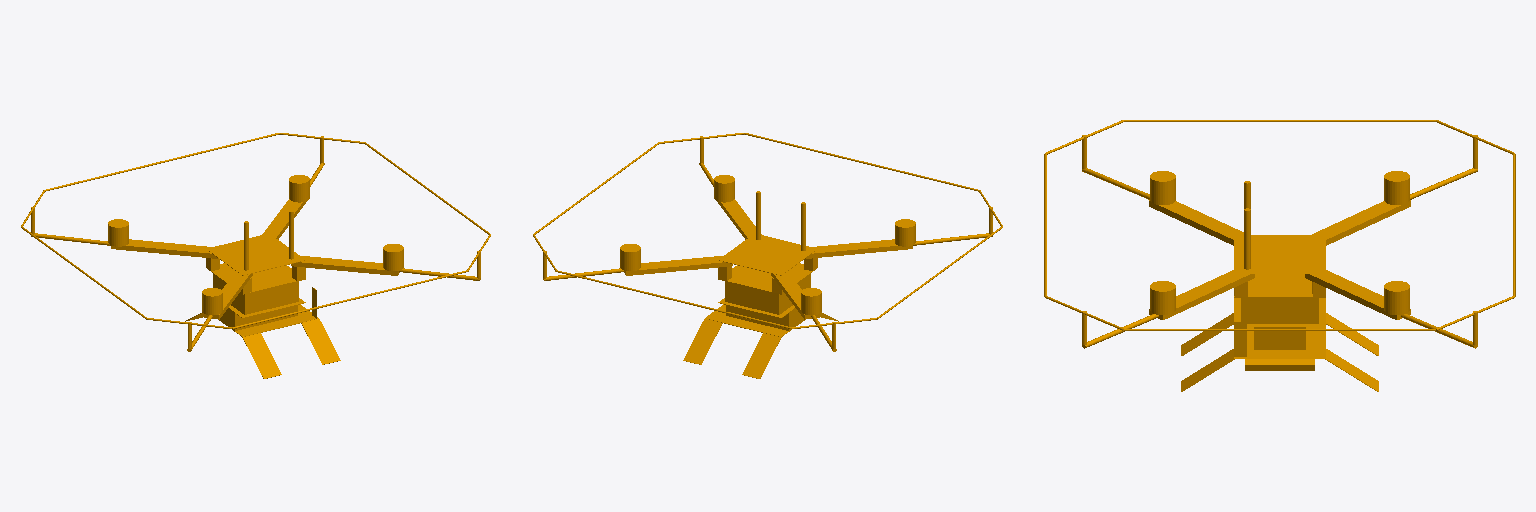
robot.urdf — Pam:
<?xml version="1.0" ?>
<robot name="Pam">
  <joint name="Pam__rotor_0_joint" type="revolute">
    <parent link="Pam__base_link"/>
    <child link="Pam__rotor_0"/>
    <origin rpy="0 0 0" xyz="0.2  -0.18  0.05"/>
    <axis xyz="0 0 1"/>
    <limit effort="0.0" lower="-1e+16" upper="1e+16" velocity="0.0"/>
  </joint>
  <joint name="Pam__rotor_1_joint" type="revolute">
    <parent link="Pam__base_link"/>
    <child link="Pam__rotor_1"/>
    <origin rpy="0 0 0" xyz="-0.2   0.18  0.05"/>
    <axis xyz="0 0 1"/>
    <limit effort="0.0" lower="-1e+16" upper="1e+16" velocity="0.0"/>
  </joint>
  <joint name="Pam__rotor_2_joint" type="revolute">
    <parent link="Pam__base_link"/>
    <child link="Pam__rotor_2"/>
    <origin rpy="0 0 0" xyz="0.2  0.18 0.05"/>
    <axis xyz="0 0 1"/>
    <limit effort="0.0" lower="-1e+16" upper="1e+16" velocity="0.0"/>
  </joint>
  <joint name="Pam__rotor_3_joint" type="revolute">
    <parent link="Pam__base_link"/>
    <child link="Pam__rotor_3"/>
    <origin rpy="0 0 0" xyz="-0.2  -0.18  0.05"/>
    <axis xyz="0 0 1"/>
    <limit effort="0.0" lower="-1e+16" upper="1e+16" velocity="0.0"/>
  </joint>
  <link name="Pam__base_link">
    <inertial>
      <mass value="3.461"/>
      <origin rpy="0 0 0" xyz="0 0 0"/>
      <inertia ixx="0.0324" ixy="0" ixz="0" iyy="0.0324" iyz="0" izz="0.0519"/>
    </inertial>
    <collision name="Pam__base_link_inertia_collision">
      <origin rpy="0 0 0" xyz="0    0   -0.05"/>
      <geometry>
        <box size="0.76 0.72 0.3"/>
      </geometry>
    </collision>
    <visual name="Pam__plate1_visual">
      <origin rpy="0 0 0" xyz="0 0 0"/>
      <geometry>
        <box size="0.14 0.14 0.001"/>
      </geometry>
    </visual>
    <visual name="Pam__plate2_visual">
      <origin rpy="0 0 0" xyz="0    0   -0.04"/>
      <geometry>
        <box size="0.14 0.14 0.001"/>
      </geometry>
    </visual>
    <visual name="Pam__plate3_visual">
      <origin rpy="0 0 0" xyz="0    0   -0.09"/>
      <geometry>
        <box size="0.14 0.14 0.001"/>
      </geometry>
    </visual>
    <visual name="Pam__plate4_visual">
      <origin rpy="0 0 0" xyz="0.015  0    -0.13"/>
      <geometry>
        <box size="0.17 0.14 0.001"/>
      </geometry>
    </visual>
    <visual name="Pam__brix_visual">
      <origin rpy="0 0 0" xyz="0     0    -0.065"/>
      <geometry>
        <box size="0.12 0.12 0.05"/>
      </geometry>
    </visual>
    <visual name="Pam__battery_visual">
      <origin rpy="0 0 0" xyz="0    0   -0.11"/>
      <geometry>
        <box size="0.14 0.08 0.04"/>
      </geometry>
    </visual>
    <visual name="Pam__leg1_visual">
      <origin rpy="-0.6  0   0" xyz="0.08   0.11  -0.158"/>
      <geometry>
        <box size="0.04 0.1 0.001"/>
      </geometry>
    </visual>
    <visual name="Pam__leg2_visual">
      <origin rpy="0.6 0  0" xyz="0.08  -0.11  -0.158"/>
      <geometry>
        <box size="0.04 0.1 0.001"/>
      </geometry>
    </visual>
    <visual name="Pam__leg3_visual">
      <origin rpy="-0.6  0   0" xyz="-0.05   0.11  -0.158"/>
      <geometry>
        <box size="0.04 0.1 0.001"/>
      </geometry>
    </visual>
    <visual name="Pam__leg4_visual">
      <origin rpy="0.6 0  0" xyz="-0.05  -0.11  -0.158"/>
      <geometry>
        <box size="0.04 0.1 0.001"/>
      </geometry>
    </visual>
    <visual name="Pam__antenna1_visual">
      <origin rpy="0 0 0" xyz="0.05 -0.05  0.05"/>
      <geometry>
        <cylinder length="0.1" radius="0.005"/>
      </geometry>
    </visual>
    <visual name="Pam__antenna2_visual">
      <origin rpy="0 0 0" xyz="-0.05 -0.05  0.05"/>
      <geometry>
        <cylinder length="0.1" radius="0.005"/>
      </geometry>
    </visual>
    <visual name="Pam__prop_guard1_visual">
      <origin rpy="1.57079 0      0" xyz="0.38 0   0.05"/>
      <geometry>
        <cylinder length="0.48" radius="0.002"/>
      </geometry>
    </visual>
    <visual name="Pam__prop_guard2_visual">
      <origin rpy="3.14159 1.57079 3.14159" xyz="0   0.36 0.05"/>
      <geometry>
        <cylinder length="0.52" radius="0.002"/>
      </geometry>
    </visual>
    <visual name="Pam__prop_guard3_visual">
      <origin rpy="1.57079 0      0" xyz="-0.38  0    0.05"/>
      <geometry>
        <cylinder length="0.48" radius="0.002"/>
      </geometry>
    </visual>
    <visual name="Pam__prop_guard4_visual">
      <origin rpy="3.14159 1.57079 3.14159" xyz="0   -0.36  0.05"/>
      <geometry>
        <cylinder length="0.52" radius="0.002"/>
      </geometry>
    </visual>
    <visual name="Pam__prop_guard5_visual">
      <origin rpy="1.57079 0      0.7854" xyz="0.32 0.3  0.05"/>
      <geometry>
        <cylinder length="0.17" radius="0.002"/>
      </geometry>
    </visual>
    <visual name="Pam__prop_guard6_visual">
      <origin rpy="1.57079 0      0.7854" xyz="-0.32 -0.3   0.05"/>
      <geometry>
        <cylinder length="0.17" radius="0.002"/>
      </geometry>
    </visual>
    <visual name="Pam__prop_guard7_visual">
      <origin rpy="1.57079  0      -0.7854" xyz="-0.32  0.3   0.05"/>
      <geometry>
        <cylinder length="0.17" radius="0.002"/>
      </geometry>
    </visual>
    <visual name="Pam__prop_guard8_visual">
      <origin rpy="1.57079  0      -0.7854" xyz="0.32 -0.3   0.05"/>
      <geometry>
        <cylinder length="0.17" radius="0.002"/>
      </geometry>
    </visual>
    <visual name="Pam__prop_guard9_visual">
      <origin rpy="0 0 0" xyz="0.32  0.3   0.025"/>
      <geometry>
        <cylinder length="0.055" radius="0.004"/>
      </geometry>
    </visual>
    <visual name="Pam__prop_guard10_visual">
      <origin rpy="0 0 0" xyz="-0.32   0.3    0.025"/>
      <geometry>
        <cylinder length="0.055" radius="0.004"/>
      </geometry>
    </visual>
    <visual name="Pam__prop_guard11_visual">
      <origin rpy="0 0 0" xyz="0.32  -0.3    0.025"/>
      <geometry>
        <cylinder length="0.055" radius="0.004"/>
      </geometry>
    </visual>
    <visual name="Pam__prop_guard12_visual">
      <origin rpy="0 0 0" xyz="-0.32  -0.3    0.025"/>
      <geometry>
        <cylinder length="0.055" radius="0.004"/>
      </geometry>
    </visual>
    <visual name="Pam__prop_guard13_visual">
      <origin rpy="1.57079  0      -0.7854" xyz="0.265  0.245 -0.005"/>
      <geometry>
        <cylinder length="0.16" radius="0.004"/>
      </geometry>
    </visual>
    <visual name="Pam__prop_guard14_visual">
      <origin rpy="1.57079  0      -0.7854" xyz="-0.265 -0.245 -0.005"/>
      <geometry>
        <cylinder length="0.16" radius="0.004"/>
      </geometry>
    </visual>
    <visual name="Pam__prop_guard15_visual">
      <origin rpy="1.57079 0      0.7854" xyz="-0.265  0.245 -0.005"/>
      <geometry>
        <cylinder length="0.16" radius="0.004"/>
      </geometry>
    </visual>
    <visual name="Pam__prop_guard16_visual">
      <origin rpy="1.57079 0      0.7854" xyz="0.265 -0.245 -0.005"/>
      <geometry>
        <cylinder length="0.16" radius="0.004"/>
      </geometry>
    </visual>
    <visual name="Pam__arm1_visual">
      <origin rpy="0   0   0.74" xyz="0.13   0.12  -0.005"/>
      <geometry>
        <box size="0.21 0.03 0.01"/>
      </geometry>
    </visual>
    <visual name="Pam__arm2_visual">
      <origin rpy="0    0   -0.74" xyz="0.13  -0.12  -0.005"/>
      <geometry>
        <box size="0.21 0.03 0.01"/>
      </geometry>
    </visual>
    <visual name="Pam__arm3_visual">
      <origin rpy="0    0   -0.74" xyz="-0.13   0.12  -0.005"/>
      <geometry>
        <box size="0.21 0.03 0.01"/>
      </geometry>
    </visual>
    <visual name="Pam__arm4_visual">
      <origin rpy="0   0   0.74" xyz="-0.13  -0.12  -0.005"/>
      <geometry>
        <box size="0.21 0.03 0.01"/>
      </geometry>
    </visual>
    <visual name="Pam__arm1a_visual">
      <origin rpy="0   0   0.02" xyz="0.06   0.06  -0.025"/>
      <geometry>
        <box size="0.02 0.02 0.03"/>
      </geometry>
    </visual>
    <visual name="Pam__arm2a_visual">
      <origin rpy="0   0   0.02" xyz="0.06  -0.06  -0.025"/>
      <geometry>
        <box size="0.02 0.02 0.03"/>
      </geometry>
    </visual>
    <visual name="Pam__arm3a_visual">
      <origin rpy="0   0   0.02" xyz="-0.06   0.06  -0.025"/>
      <geometry>
        <box size="0.02 0.02 0.03"/>
      </geometry>
    </visual>
    <visual name="Pam__arm4a_visual">
      <origin rpy="0   0   0.02" xyz="-0.06  -0.06  -0.025"/>
      <geometry>
        <box size="0.02 0.02 0.03"/>
      </geometry>
    </visual>
    <visual name="Pam__motor1_visual">
      <origin rpy="0 0 0" xyz="0.2  0.18 0.02"/>
      <geometry>
        <cylinder length="0.04" radius="0.02"/>
      </geometry>
    </visual>
    <visual name="Pam__motor2_visual">
      <origin rpy="0 0 0" xyz="-0.2   0.18  0.02"/>
      <geometry>
        <cylinder length="0.04" radius="0.02"/>
      </geometry>
    </visual>
    <visual name="Pam__motor3_visual">
      <origin rpy="0 0 0" xyz="0.2  -0.18  0.02"/>
      <geometry>
        <cylinder length="0.04" radius="0.02"/>
      </geometry>
    </visual>
    <visual name="Pam__motor4_visual">
      <origin rpy="0 0 0" xyz="-0.2  -0.18  0.02"/>
      <geometry>
        <cylinder length="0.04" radius="0.02"/>
      </geometry>
    </visual>
    <visual name="Pam__lightbar_visual">
      <origin rpy="0 0 0" xyz="0.095 -0.06  -0.1"/>
      <geometry>
        <box size="0.001 0.02 0.06"/>
      </geometry>
    </visual>
    <visual name="Pam__t265_visual">
      <origin rpy="0   0.75 0" xyz="0.09     0      -0.14299"/>
      <geometry>
        <box size="0.013 0.108 0.025"/>
      </geometry>
    </visual>
    <visual name="Pam__d435_dae_front_visual">
      <origin rpy="0 0 0" xyz="0.075  0    -0.13"/>
      <geometry>
        <mesh filename="package://coro_pam_sensor_config_1/meshes/realsense_d435.dae" scale="0.001 0.001 0.001"/>
      </geometry>
    </visual>
    <visual name="Pam__d435_dae_left_visual">
      <origin rpy="1.57079 0      1.57079" xyz="0     0.07  -0.117"/>
      <geometry>
        <mesh filename="package://coro_pam_sensor_config_1/meshes/realsense_d435.dae" scale="0.001 0.001 0.001"/>
      </geometry>
    </visual>
    <visual name="Pam__d435_dae_right_visual">
      <origin rpy="1.57079  0      -1.57079" xyz="0.02  -0.07  -0.117"/>
      <geometry>
        <mesh filename="package://coro_pam_sensor_config_1/meshes/realsense_d435.dae" scale="0.001 0.001 0.001"/>
      </geometry>
    </visual>
  </link>
  <link name="Pam__rotor_0">
    <inertial>
      <mass value="0.024"/>
      <origin rpy="0 0 0" xyz="0 0 0"/>
      <inertia ixx="1e-05" ixy="0" ixz="0" iyy="4e-04" iyz="0" izz="4e-04"/>
    </inertial>
    <collision name="Pam__rotor_0_collision">
      <origin rpy="0 0 0" xyz="0 0 0"/>
      <geometry>
        <cylinder length="0.01" radius="0.165"/>
      </geometry>
    </collision>
    <visual name="Pam__rotor_0_visual">
      <origin rpy="0 0 0" xyz="0 0 0"/>
      <geometry>
        <mesh filename="package://coro_pam_sensor_config_1/meshes/propeller_ccw.dae" scale="0.165 0.165 0.165"/>
      </geometry>
    </visual>
  </link>
  <link name="Pam__rotor_1">
    <inertial>
      <mass value="0.024"/>
      <origin rpy="0 0 0" xyz="0 0 0"/>
      <inertia ixx="1e-05" ixy="0" ixz="0" iyy="4e-04" iyz="0" izz="4e-04"/>
    </inertial>
    <collision name="Pam__rotor_1_collision">
      <origin rpy="0 0 0" xyz="0 0 0"/>
      <geometry>
        <cylinder length="0.01" radius="0.165"/>
      </geometry>
    </collision>
    <visual name="Pam__rotor_1_visual">
      <origin rpy="0 0 0" xyz="0 0 0"/>
      <geometry>
        <mesh filename="package://coro_pam_sensor_config_1/meshes/propeller_ccw.dae" scale="0.165 0.165 0.165"/>
      </geometry>
    </visual>
  </link>
  <link name="Pam__rotor_2">
    <inertial>
      <mass value="0.024"/>
      <origin rpy="0 0 0" xyz="0 0 0"/>
      <inertia ixx="1e-05" ixy="0" ixz="0" iyy="4e-04" iyz="0" izz="4e-04"/>
    </inertial>
    <collision name="Pam__rotor_2_collision">
      <origin rpy="0 0 0" xyz="0 0 0"/>
      <geometry>
        <cylinder length="0.01" radius="0.165"/>
      </geometry>
    </collision>
    <visual name="Pam__rotor_2_visual">
      <origin rpy="0 0 0" xyz="0 0 0"/>
      <geometry>
        <mesh filename="package://coro_pam_sensor_config_1/meshes/propeller_cw.dae" scale="0.165 0.165 0.165"/>
      </geometry>
    </visual>
  </link>
  <link name="Pam__rotor_3">
    <inertial>
      <mass value="0.024"/>
      <origin rpy="0 0 0" xyz="0 0 0"/>
      <inertia ixx="1e-05" ixy="0" ixz="0" iyy="4e-04" iyz="0" izz="4e-04"/>
    </inertial>
    <collision name="Pam__rotor_3_collision">
      <origin rpy="0 0 0" xyz="0 0 0"/>
      <geometry>
        <cylinder length="0.01" radius="0.165"/>
      </geometry>
    </collision>
    <visual name="Pam__rotor_3_visual">
      <origin rpy="0 0 0" xyz="0 0 0"/>
      <geometry>
        <mesh filename="package://coro_pam_sensor_config_1/meshes/propeller_cw.dae" scale="0.165 0.165 0.165"/>
      </geometry>
    </visual>
  </link>
</robot>

--- Render facts (derived) ---
The picture shows the robot from 3 angles, left to right: view 1: azimuth 30°, elevation 25°; view 2: azimuth 150°, elevation 25°; view 3: azimuth 270°, elevation 25°; orthographic projection.
Robot: Pam — 5 links, 4 joints (4 revolute); root link Pam__base_link; default pose: all joints at 0.
Visible links, largest first — view 1: Pam__base_link; view 2: Pam__base_link; view 3: Pam__base_link.
Link boxes in pixels (x1,y1,x2,y2): Pam__base_link: (21,133,490,378); Pam__base_link: (533,133,1002,378); Pam__base_link: (1044,120,1515,391).
Size in the robot's own frame: 0.764 by 0.724 by 0.2866 metres.
0 mesh visuals loaded from 3 distinct referenced files (none loaded); not drawn: 7 (reference not matched to a file when rendering).
